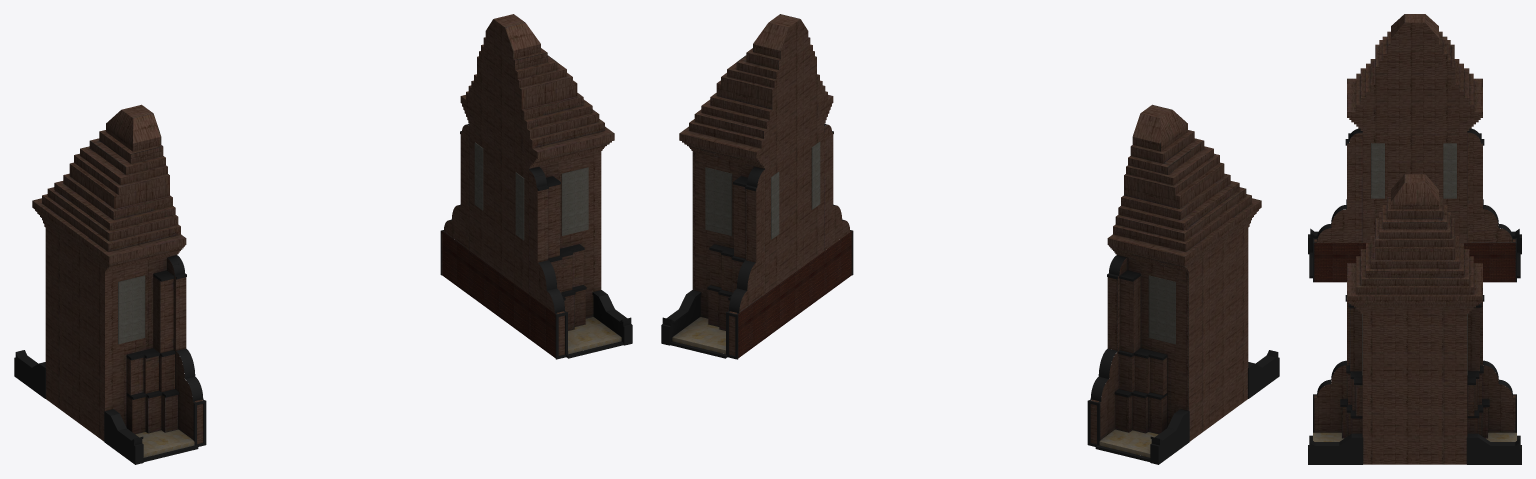
File: gapurakotamalang.glb
3 views of the same model, side by side, from view 1: azimuth 30°, elevation 25°; view 2: azimuth 150°, elevation 25°; view 3: azimuth 270°, elevation 25° (orthographic). The views are drawn at different scales.
Parts seen in each view (by area): view 1: Cube.006, Cube.024, Cube.016, Cube.018, Cube.008; view 2: Cube.006, Cube.024, Cube.016, Cube.018, Cube.008; view 3: Cube.006, Cube.024, Cube.016, Cube.018, Cube.008.
Boxes of the visible parts, x1,y1,x2,y2 form: Cube.006: (32,14,614,444); Cube.024: (14,124,632,464); Cube.016: (441,231,555,357); Cube.018: (118,142,588,344); Cube.008: (135,317,621,457); Cube.006: (679,14,1261,444); Cube.024: (661,124,1279,464); Cube.016: (738,231,852,357); Cube.018: (705,141,1175,344); Cube.008: (672,317,1158,457); Cube.006: (1314,14,1515,464); Cube.024: (1308,128,1521,464); Cube.016: (1314,243,1515,282); Cube.018: (1362,143,1467,375); Cube.008: (1313,432,1516,441).
Bounding box in the file's own units: 16.9 × 9.39 × 7.01.
Materials: 5 (5 with a texture image).
